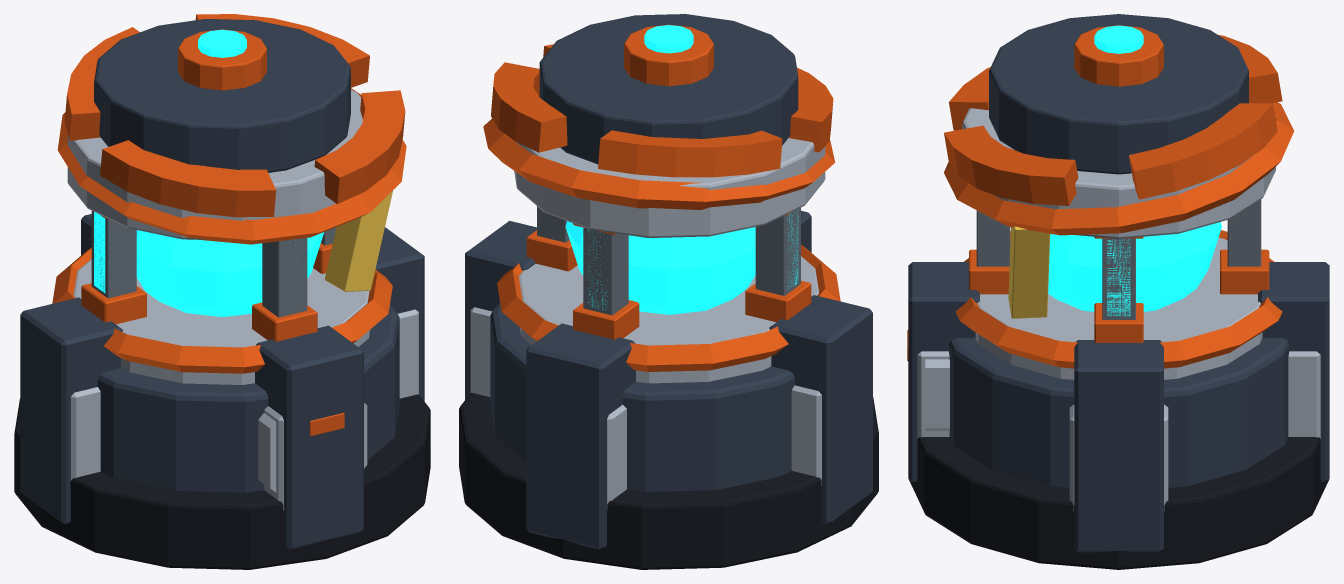
The model's file is objective_core__damaged.glb.
3 renders of one model, left to right at view 1: azimuth 30°, elevation 25°; view 2: azimuth 150°, elevation 25°; view 3: azimuth 270°, elevation 25°, orthographic.
Visible parts, largest first — view 1: ROLE_primary, ROLE_accent, ROLE_rubber, ROLE_secondary, ROLE_interaction, ROLE_bareMetal, ROLE_warning; view 2: ROLE_primary, ROLE_accent, ROLE_secondary, ROLE_rubber, ROLE_interaction, ROLE_bareMetal; view 3: ROLE_primary, ROLE_accent, ROLE_rubber, ROLE_secondary, ROLE_interaction, ROLE_bareMetal, ROLE_warning.
Boxes of the visible parts, <box> form: ROLE_primary: <box>20,19,424,549</box>; ROLE_accent: <box>52,14,406,436</box>; ROLE_rubber: <box>14,394,430,569</box>; ROLE_secondary: <box>67,89,418,510</box>; ROLE_interaction: <box>94,29,324,316</box>; ROLE_bareMetal: <box>91,211,336,317</box>; ROLE_warning: <box>324,190,392,291</box>; ROLE_primary: <box>465,14,872,549</box>; ROLE_accent: <box>483,24,840,371</box>; ROLE_secondary: <box>470,138,825,509</box>; ROLE_rubber: <box>459,392,878,569</box>; ROLE_interaction: <box>565,25,798,314</box>; ROLE_bareMetal: <box>537,206,800,315</box>; ROLE_primary: <box>908,14,1329,552</box>; ROLE_accent: <box>907,25,1294,368</box>; ROLE_rubber: <box>908,437,1329,569</box>; ROLE_secondary: <box>917,108,1320,511</box>; ROLE_interaction: <box>1048,25,1221,316</box>; ROLE_bareMetal: <box>976,199,1261,319</box>; ROLE_warning: <box>1008,226,1050,318</box>.
Size of the model in its own units: 6 by 7 by 6.
